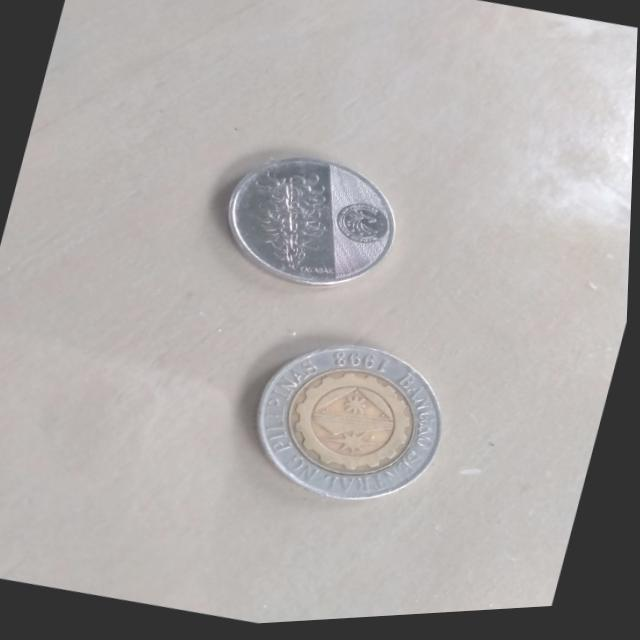10_Old_Back: (241, 325, 463, 528)
5_New_Back: (234, 159, 344, 283)
